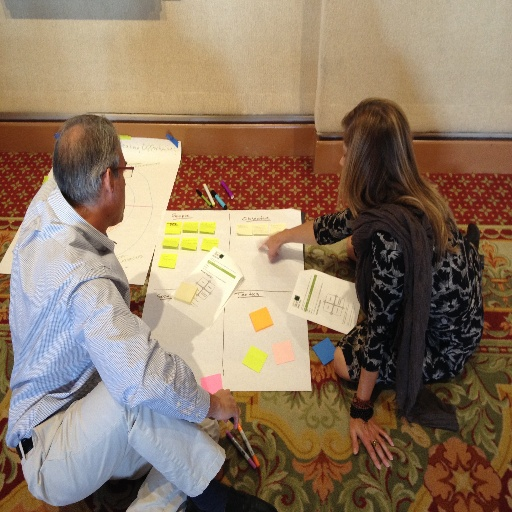hand: (349, 415, 393, 469), (211, 386, 240, 430), (257, 227, 283, 259)
